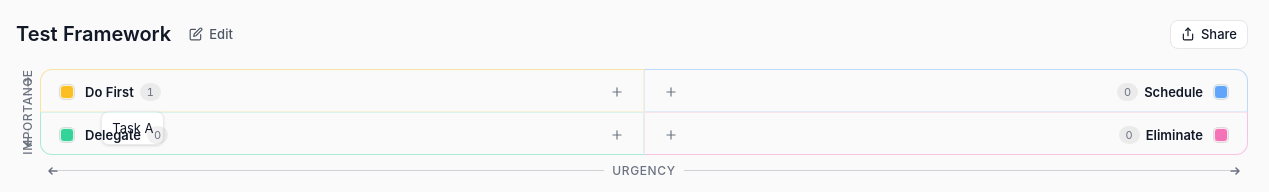
Test: QuadrantCanvas › shows "Share failed" when nothing could deliver the link (BUG-002)
The image size is (1269, 192).
Click the button "Share" at (1209,34), box [1170,20,1248,49]
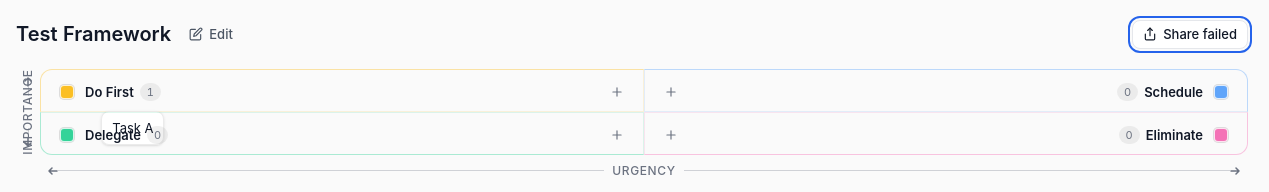
Now the text "Share failed" is shown, box [1163,25,1237,44]
